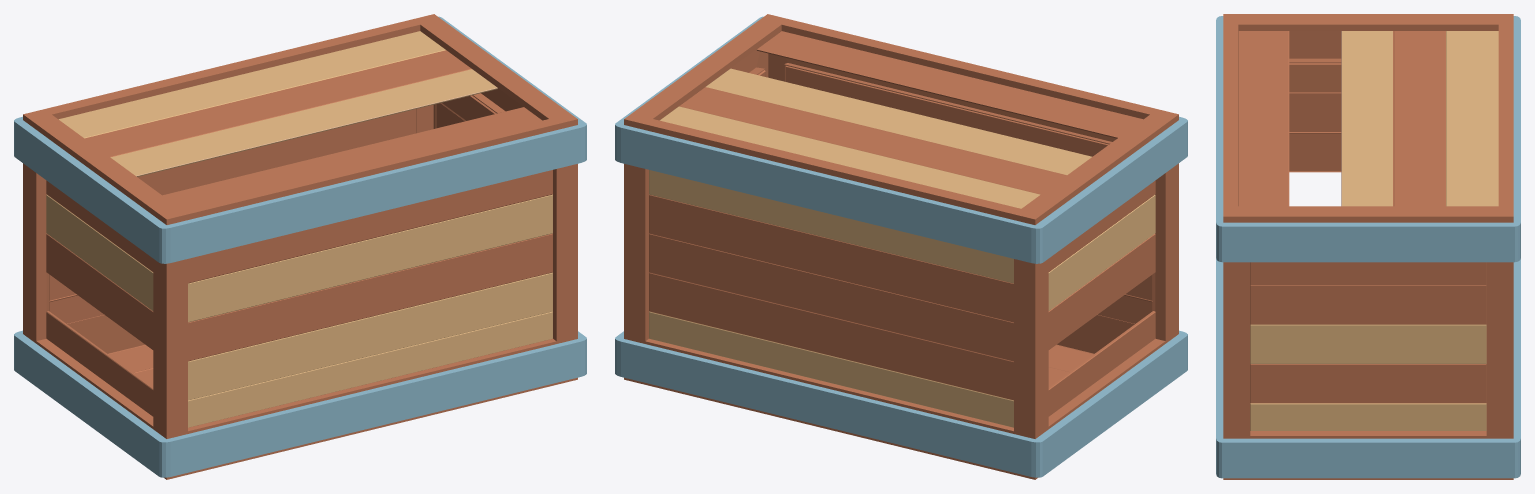
3 views of the same model, side by side, from view 1: azimuth 30°, elevation 25°; view 2: azimuth 150°, elevation 25°; view 3: azimuth 270°, elevation 25° (orthographic).
Parts seen in each view (by area): view 1: Cube.010; view 2: Cube.010; view 3: Cube.010.
Part boxes in pixels (x1,y1,x2,y2): Cube.010: (14, 14, 586, 479); Cube.010: (615, 14, 1187, 479); Cube.010: (1216, 14, 1520, 479).
Bounding box in the file's own units: 70.13 × 40.85 × 42.88.
1 material, 1 textured.
